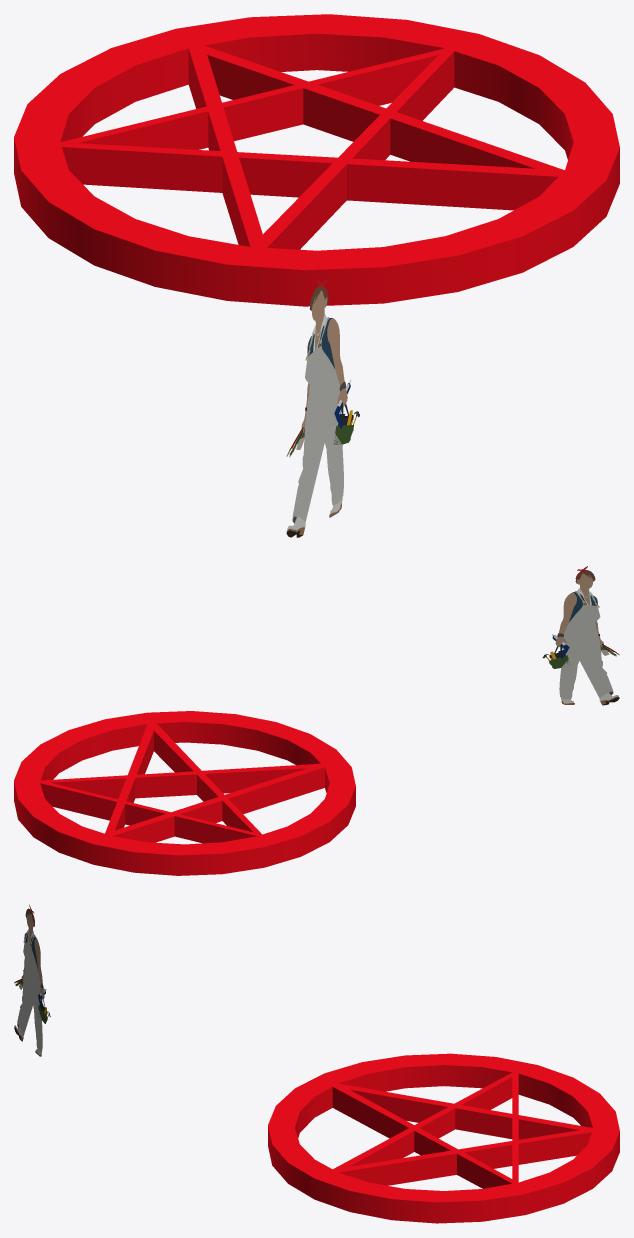
File: pentaculo.fbx
The picture shows the model from 3 angles, top to bottom: view 1: azimuth 30°, elevation 25°; view 2: azimuth 150°, elevation 25°; view 3: azimuth 270°, elevation 25°; orthographic projection. The views are drawn at different scales.
Parts seen in each view (by area): view 1: Model, Lisanne1; view 2: Model, Lisanne1; view 3: Model, Lisanne1.
Boxes of the visible parts, bbox=[...] form: Model: bbox=[14, 14, 619, 306]; Lisanne1: bbox=[286, 280, 359, 537]; Model: bbox=[14, 711, 355, 875]; Lisanne1: bbox=[542, 566, 619, 705]; Model: bbox=[268, 1053, 619, 1223]; Lisanne1: bbox=[14, 904, 50, 1056].
Size of the model in its own units: 4.77 by 1.7 by 6.5.
